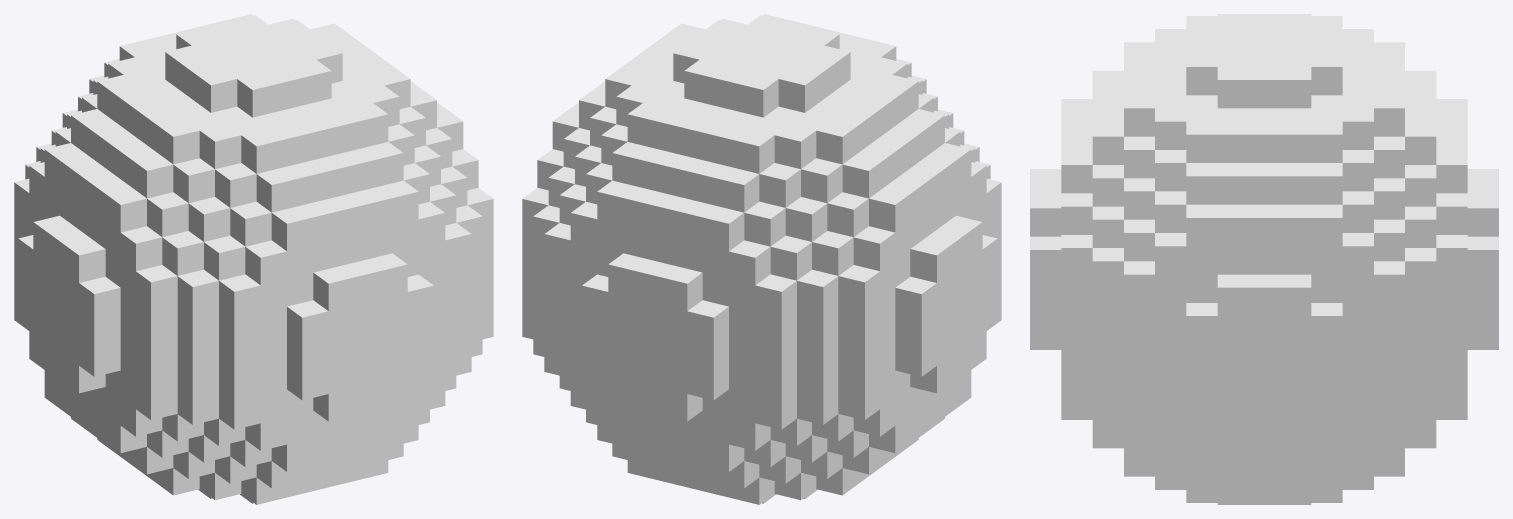
The model's file is White Ball.fbx.
The picture shows the model from 3 angles, left to right: view 1: azimuth 30°, elevation 25°; view 2: azimuth 150°, elevation 25°; view 3: azimuth 270°, elevation 25°; orthographic projection. The views are drawn at different scales.
Visible parts, largest first — view 1: Untitled.001; view 2: Untitled.001; view 3: Untitled.001.
Boxes of the visible parts, <box> form: Untitled.001: <box>14,14,493,504</box>; Untitled.001: <box>522,14,1001,504</box>; Untitled.001: <box>1030,14,1498,504</box>.
Bounding box in the file's own units: 150 × 150 × 150.
